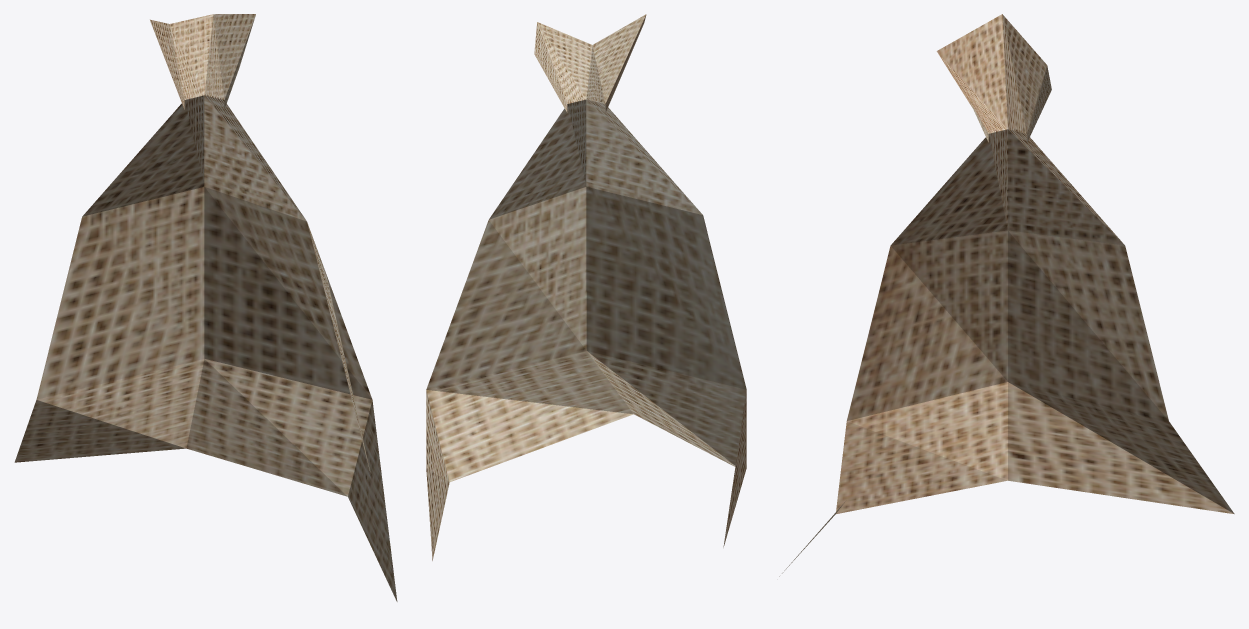
File: Sack_805.glb
3 views of the same model, side by side, from view 1: azimuth 30°, elevation 25°; view 2: azimuth 150°, elevation 25°; view 3: azimuth 270°, elevation 25° (orthographic). The views are drawn at different scales.
Parts seen in each view (by area): view 1: pSphereShape37; view 2: pSphereShape37; view 3: pSphereShape37.
Boxes of the visible parts, <box> form: pSphereShape37: <box>14,14,397,601</box>; pSphereShape37: <box>426,14,746,560</box>; pSphereShape37: <box>779,14,1234,576</box>.
Size of the model in its own units: 0.086 by 0.1293 by 0.1063.
1 material, 1 textured.
